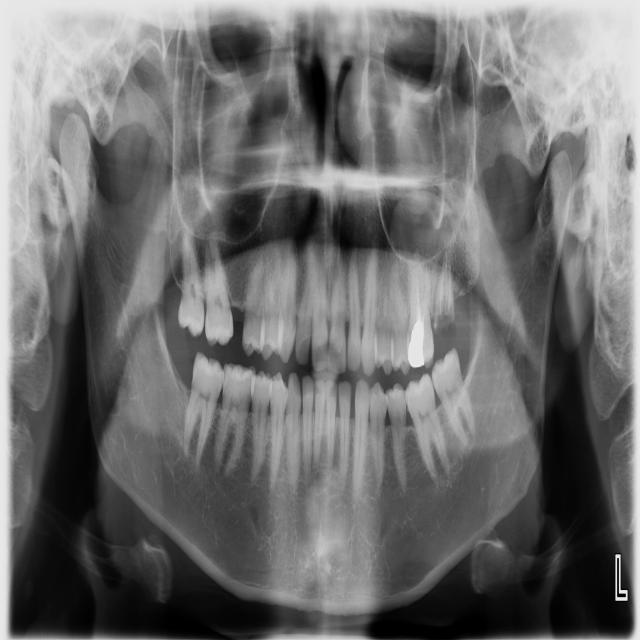mandibula: (57, 117, 570, 615)
